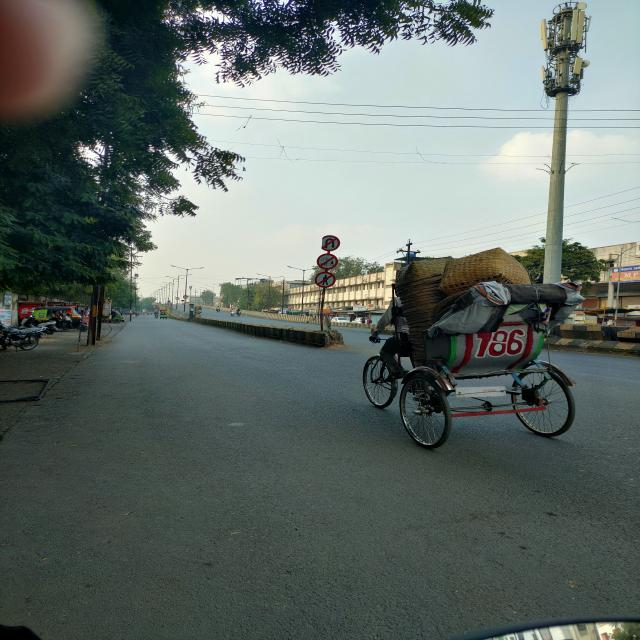cycle_prohibited: (317, 254, 338, 270)
